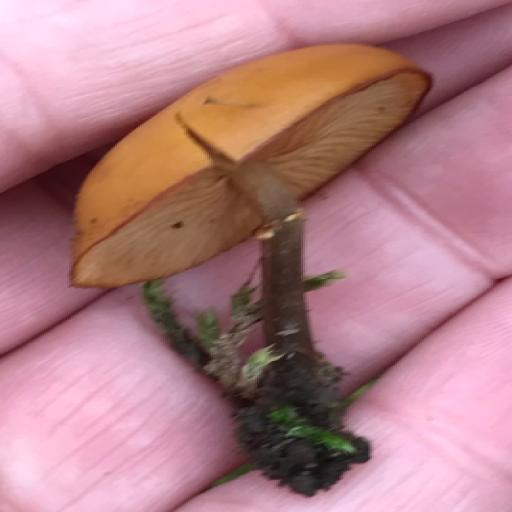Funeral Bell: (62, 41, 444, 481)
